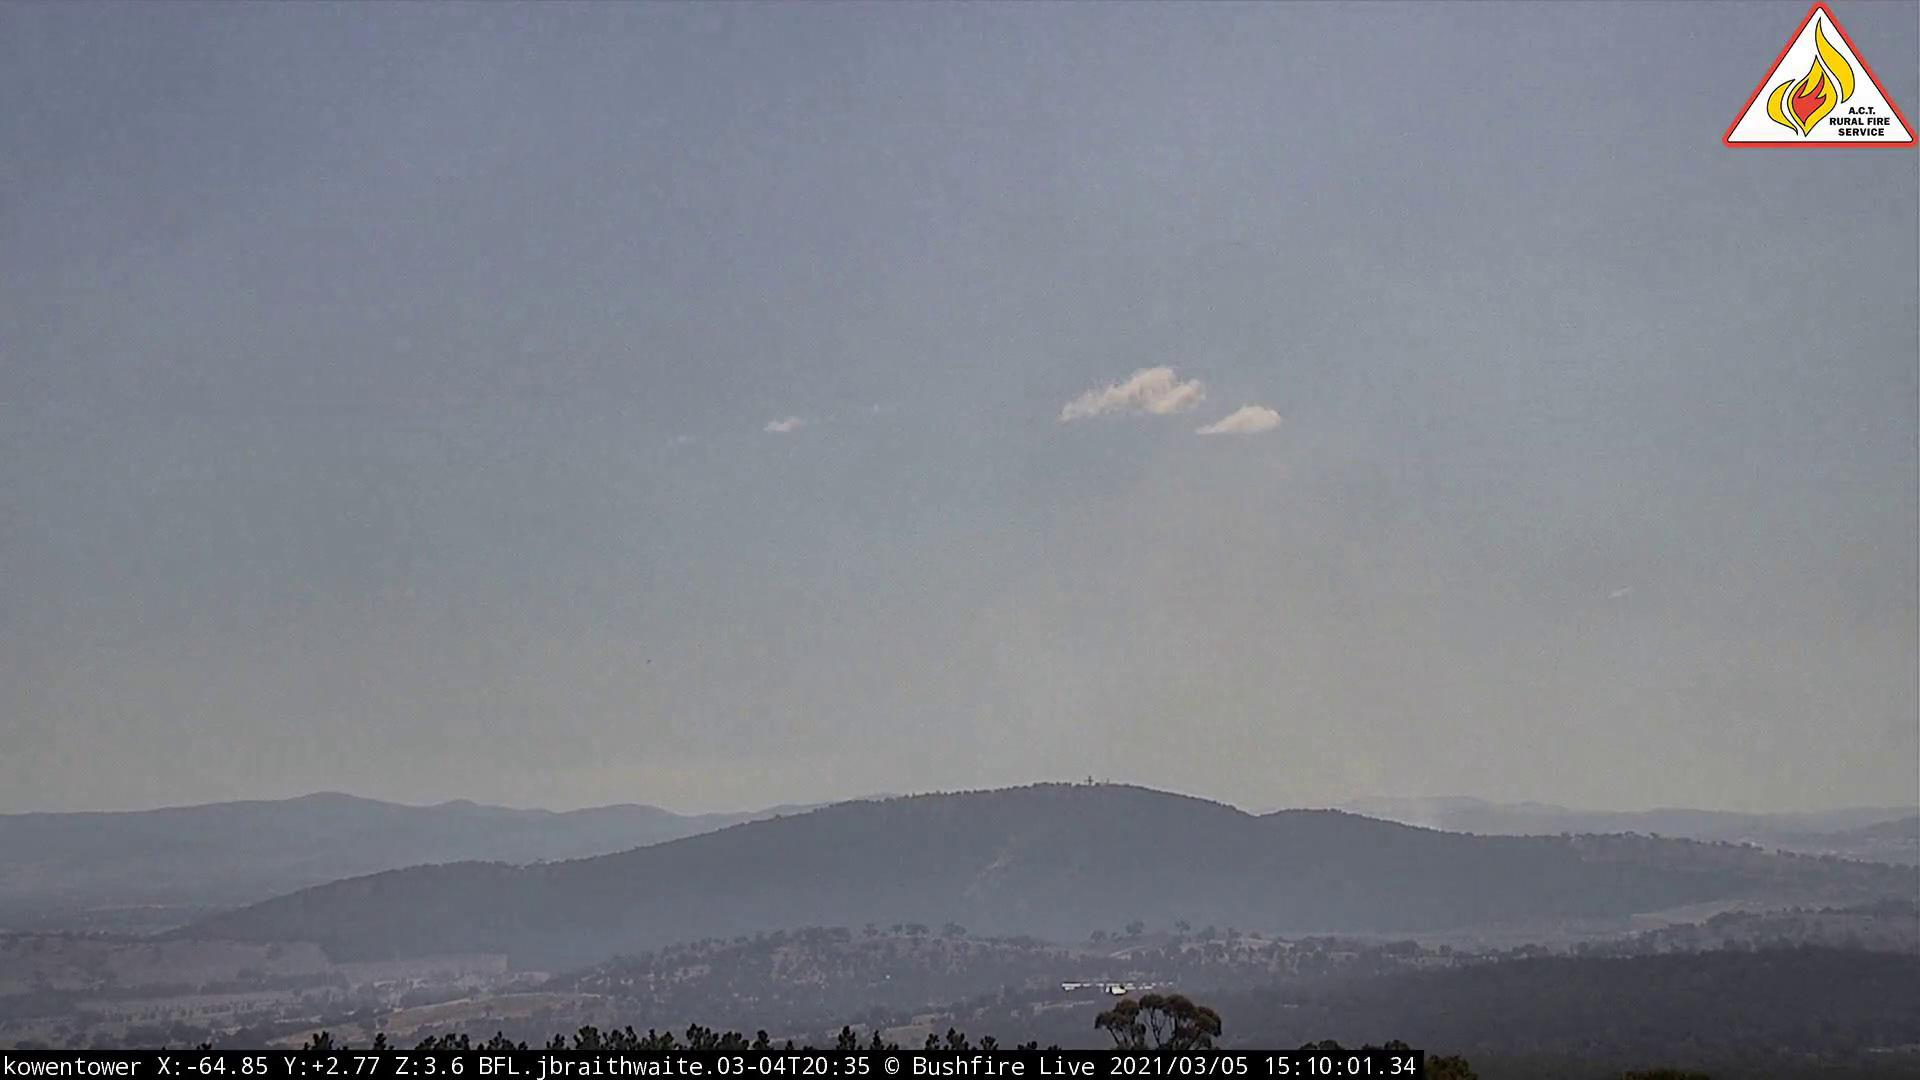Smoke: (924, 368, 1462, 839)
